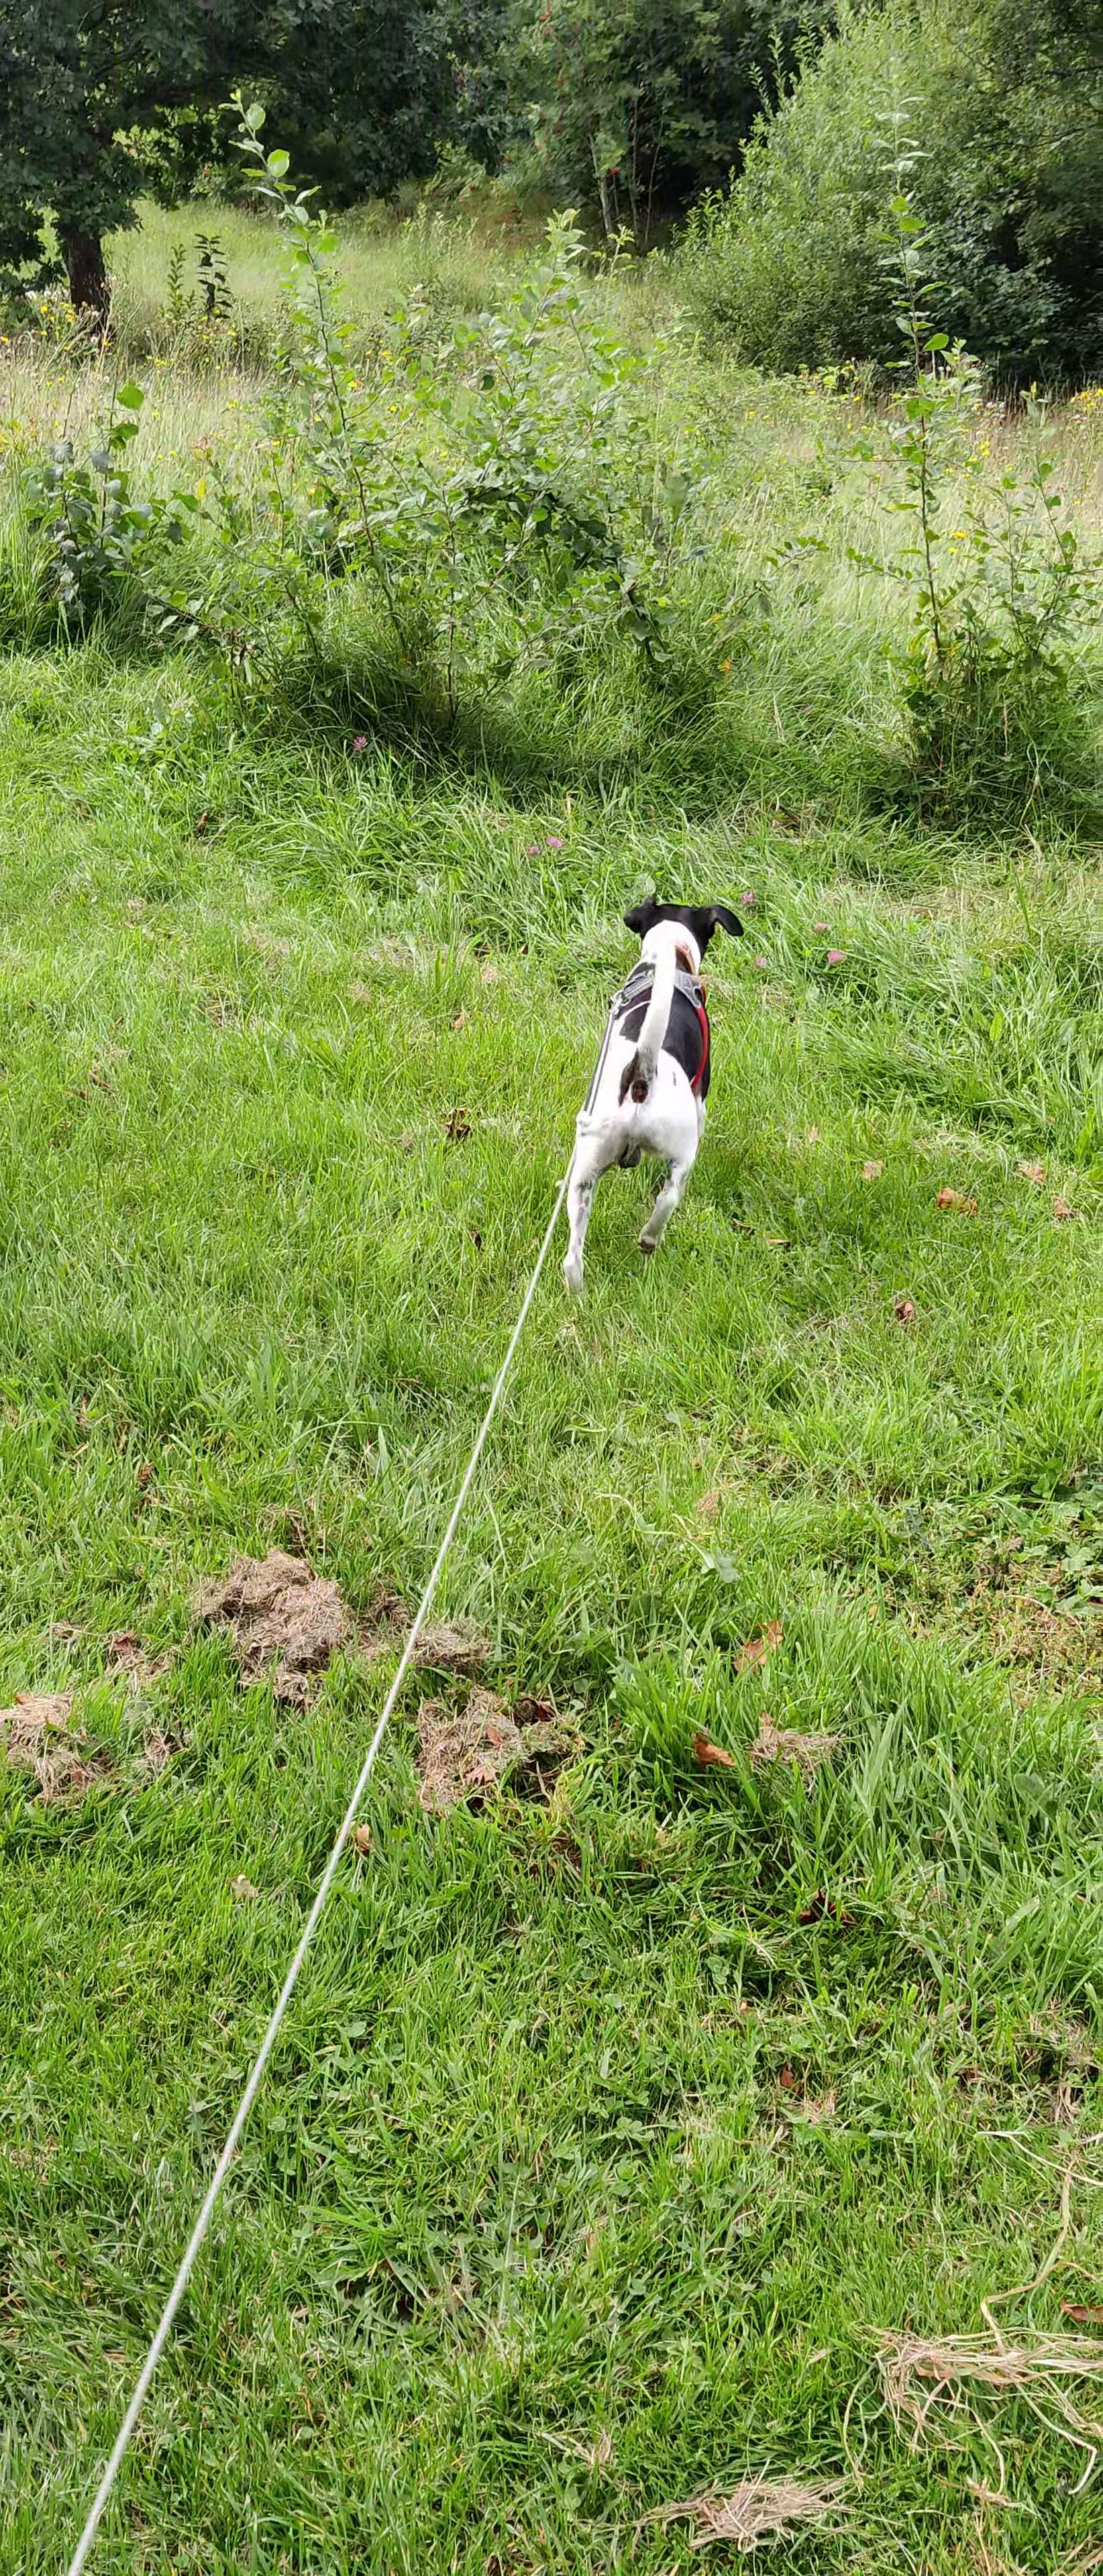Dog: (529, 861, 776, 1318)
